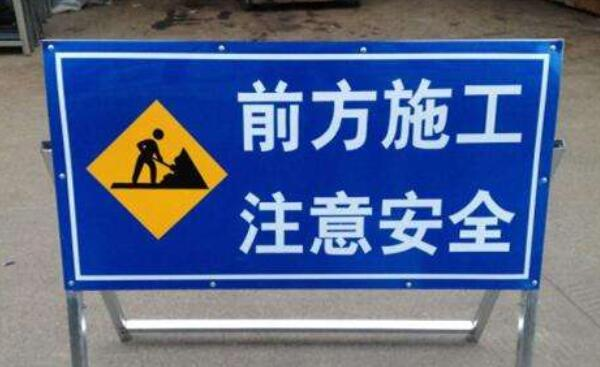sign: (45, 43, 544, 289)
